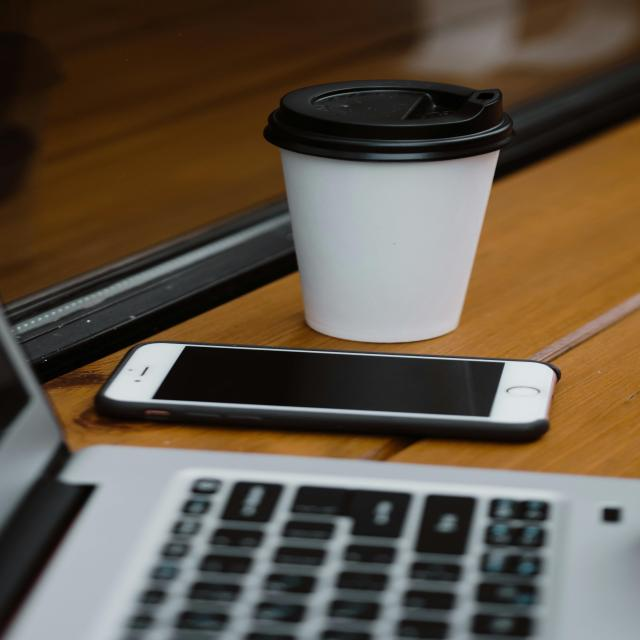cup: (264, 75, 522, 341)
